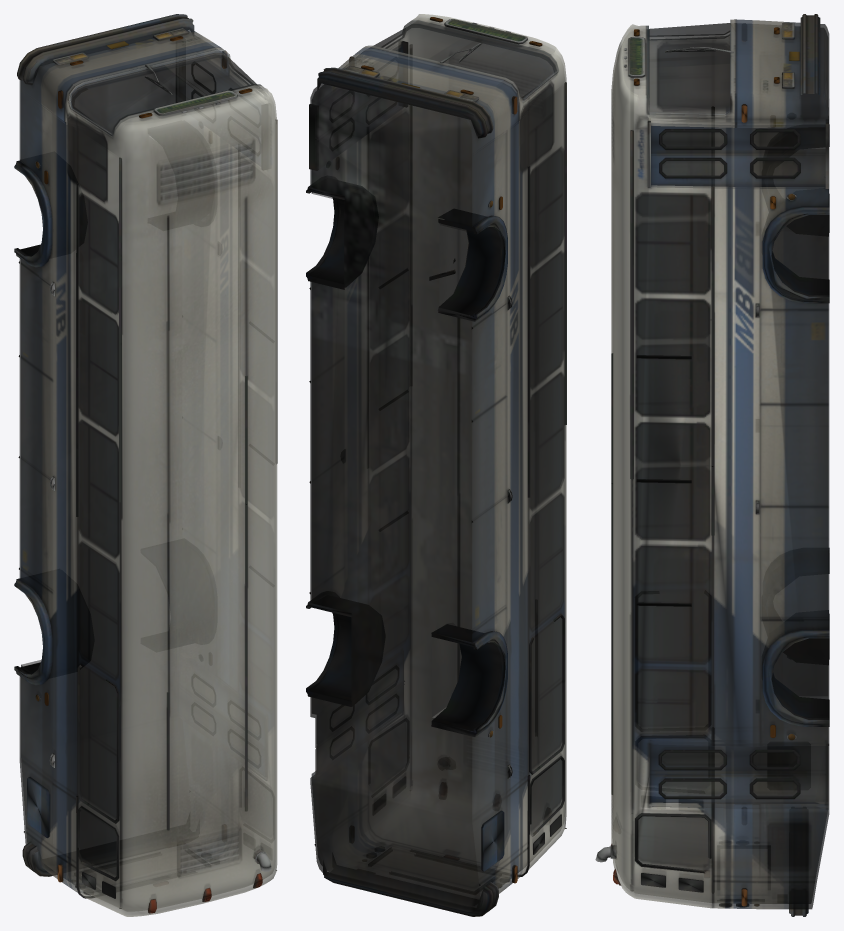
The model's file is Bus.obj.
3 views of the same model, side by side, from view 1: azimuth 30°, elevation 25°; view 2: azimuth 150°, elevation 25°; view 3: azimuth 270°, elevation 25° (orthographic).
Visible parts, largest first — view 1: Bus.001; view 2: Bus.001; view 3: Bus.001.
Part boxes in pixels (x1=…): Bus.001: x1=14, y1=14, x2=277, y2=916; Bus.001: x1=306, y1=14, x2=566, y2=916; Bus.001: x1=595, y1=14, x2=829, y2=916.
Bounding box in the file's own units: 2.97 × 12.3 × 3.14.
Materials: 2 (2 with a texture image).
